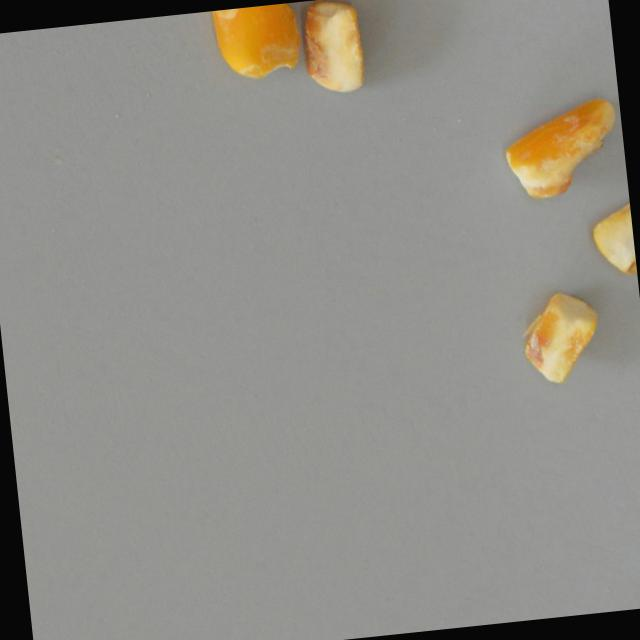dañado: (498, 95, 626, 203), (505, 284, 607, 390), (205, 1, 305, 84), (297, 0, 368, 98), (581, 187, 638, 287)
